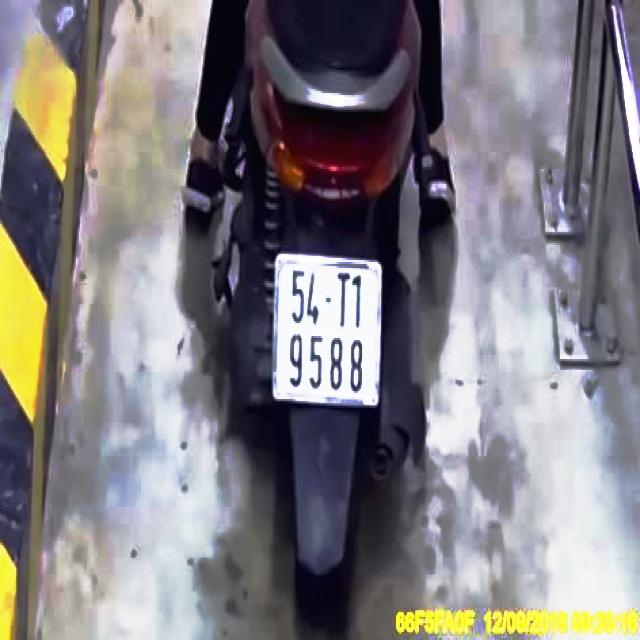license_plate: (275, 254, 387, 410)
